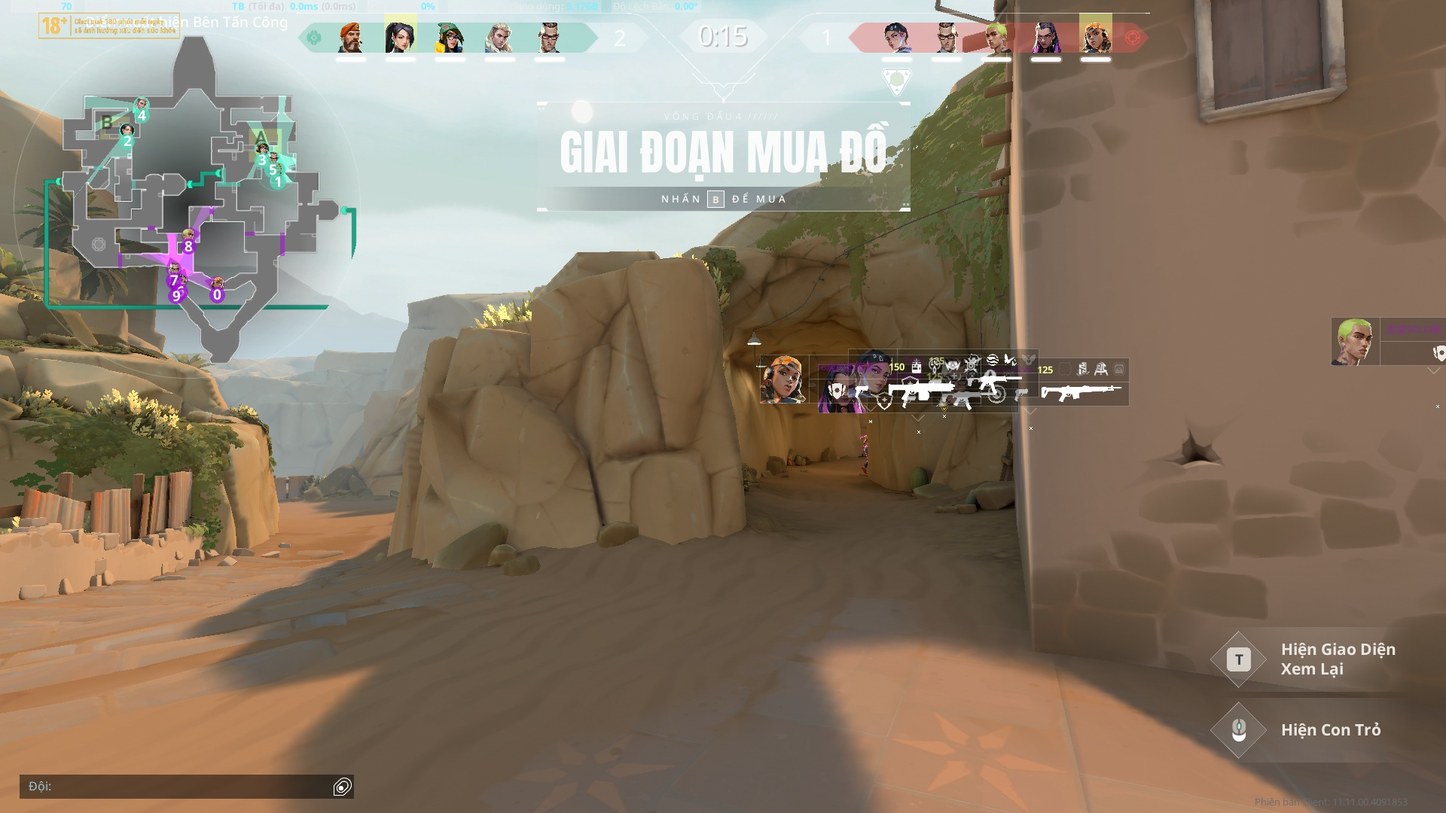body: (862, 432, 869, 446)
